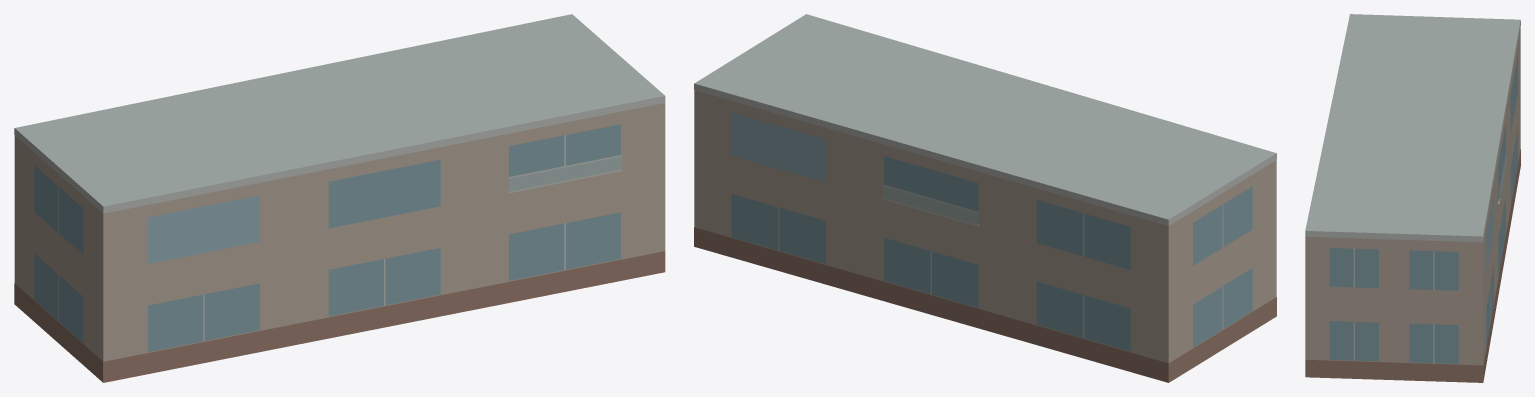
Rendered from survey-upis-32808353.glb.
3 views of the same model, side by side, from view 1: azimuth 30°, elevation 25°; view 2: azimuth 150°, elevation 25°; view 3: azimuth 270°, elevation 25° (orthographic). The views are drawn at different scales.
Parts seen in each view (by area): view 1: survey-upis-32808353.tmp; view 2: survey-upis-32808353.tmp; view 3: survey-upis-32808353.tmp.
Boxes of the visible parts, box(x1,y1,x2,y2) form: survey-upis-32808353.tmp: box(14, 14, 665, 382); survey-upis-32808353.tmp: box(694, 14, 1276, 382); survey-upis-32808353.tmp: box(1305, 14, 1520, 382).
Size of the model in its own units: 19.89 by 6.1 by 8.15.
